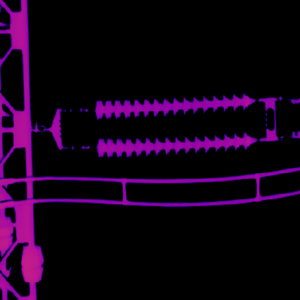insulator: (93, 89, 260, 156)
